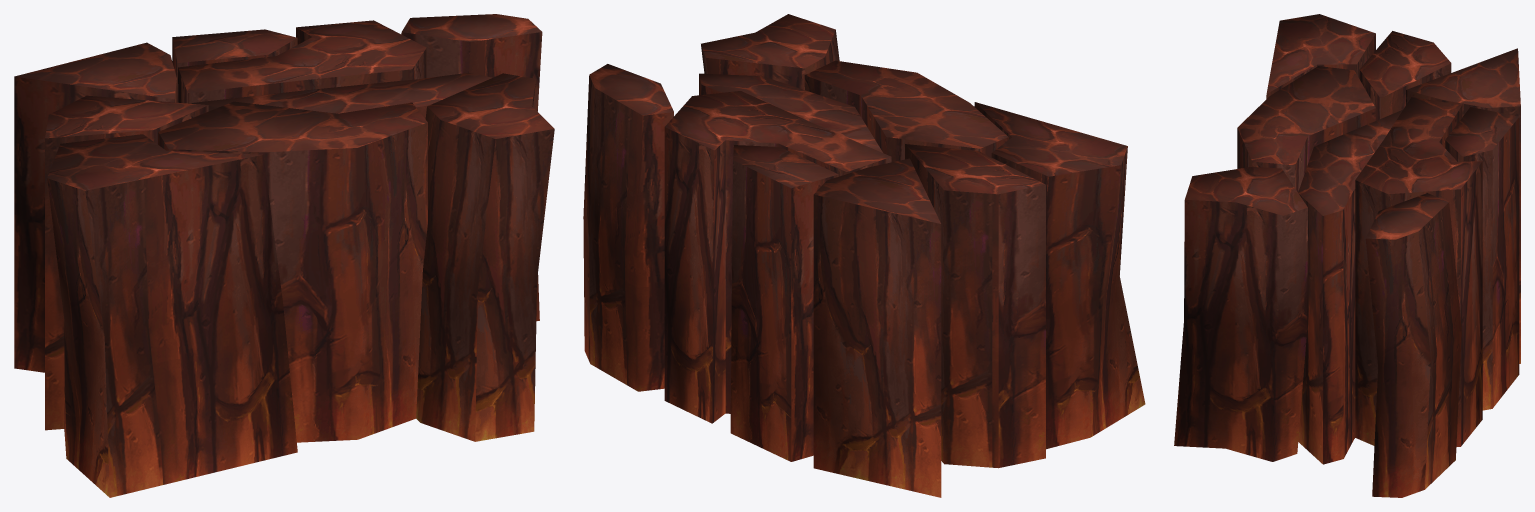
Rendered from terrain02.FBX.
3 views of the same model, side by side, from view 1: azimuth 30°, elevation 25°; view 2: azimuth 150°, elevation 25°; view 3: azimuth 270°, elevation 25° (orthographic). The views are drawn at different scales.
Visible parts, largest first — view 1: terrain02; view 2: terrain02; view 3: terrain02.
Boxes of the visible parts, x1,y1,x2,y2 form: terrain02: (14,14,554,497); terrain02: (583,14,1145,497); terrain02: (1174,14,1520,497).
Size of the model in its own units: 1179 by 763 by 626.
